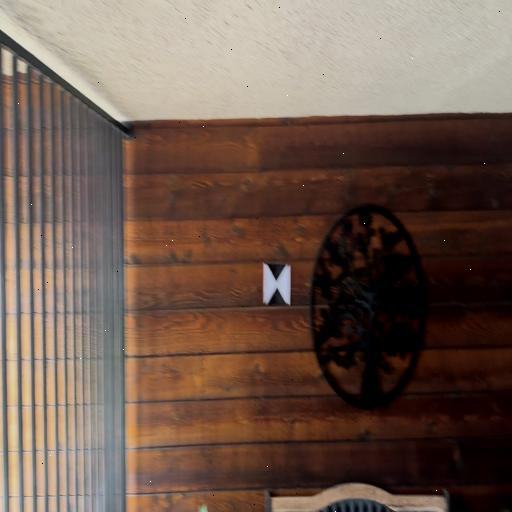target: (263, 263, 291, 303)
